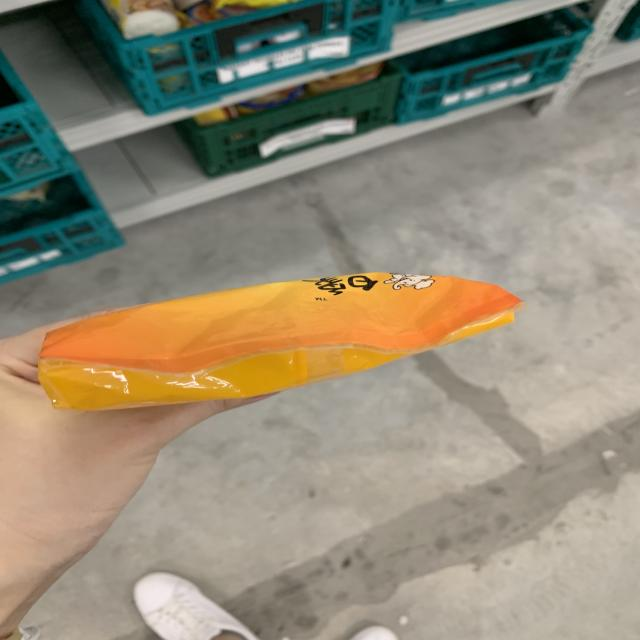object_name: (59, 308, 487, 375)
